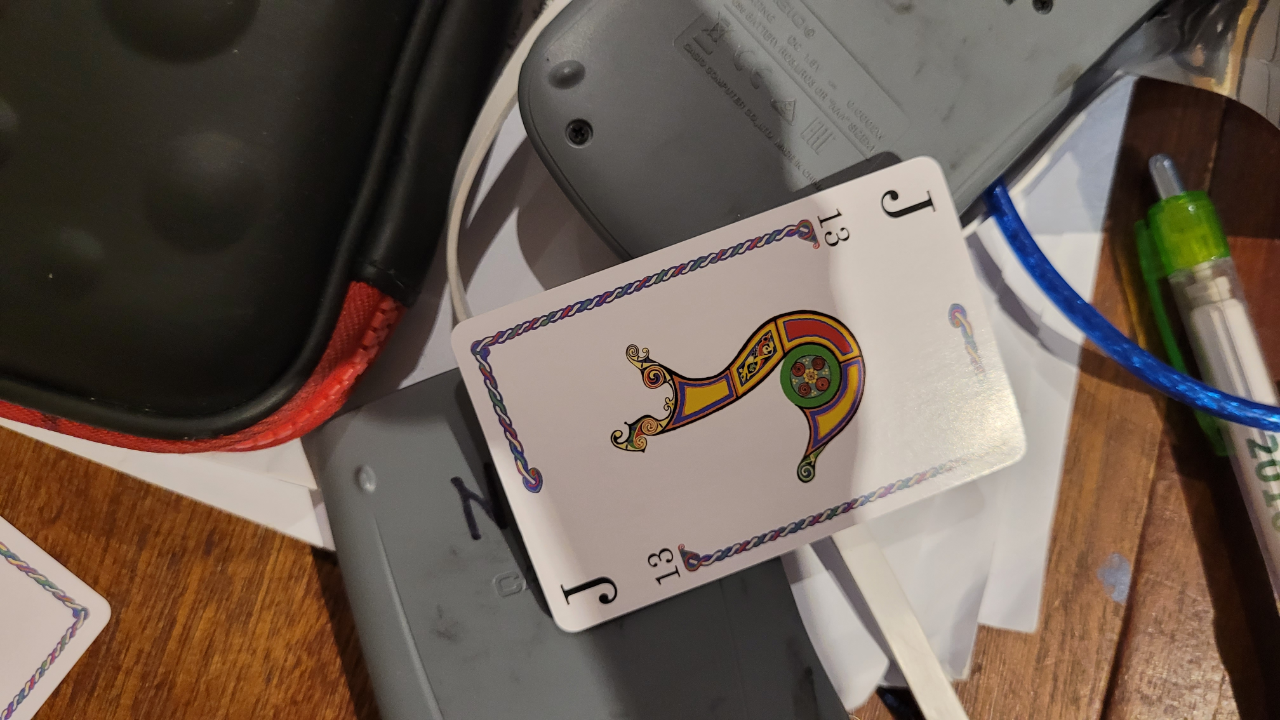quiddler_card: (433, 151, 1049, 644)
